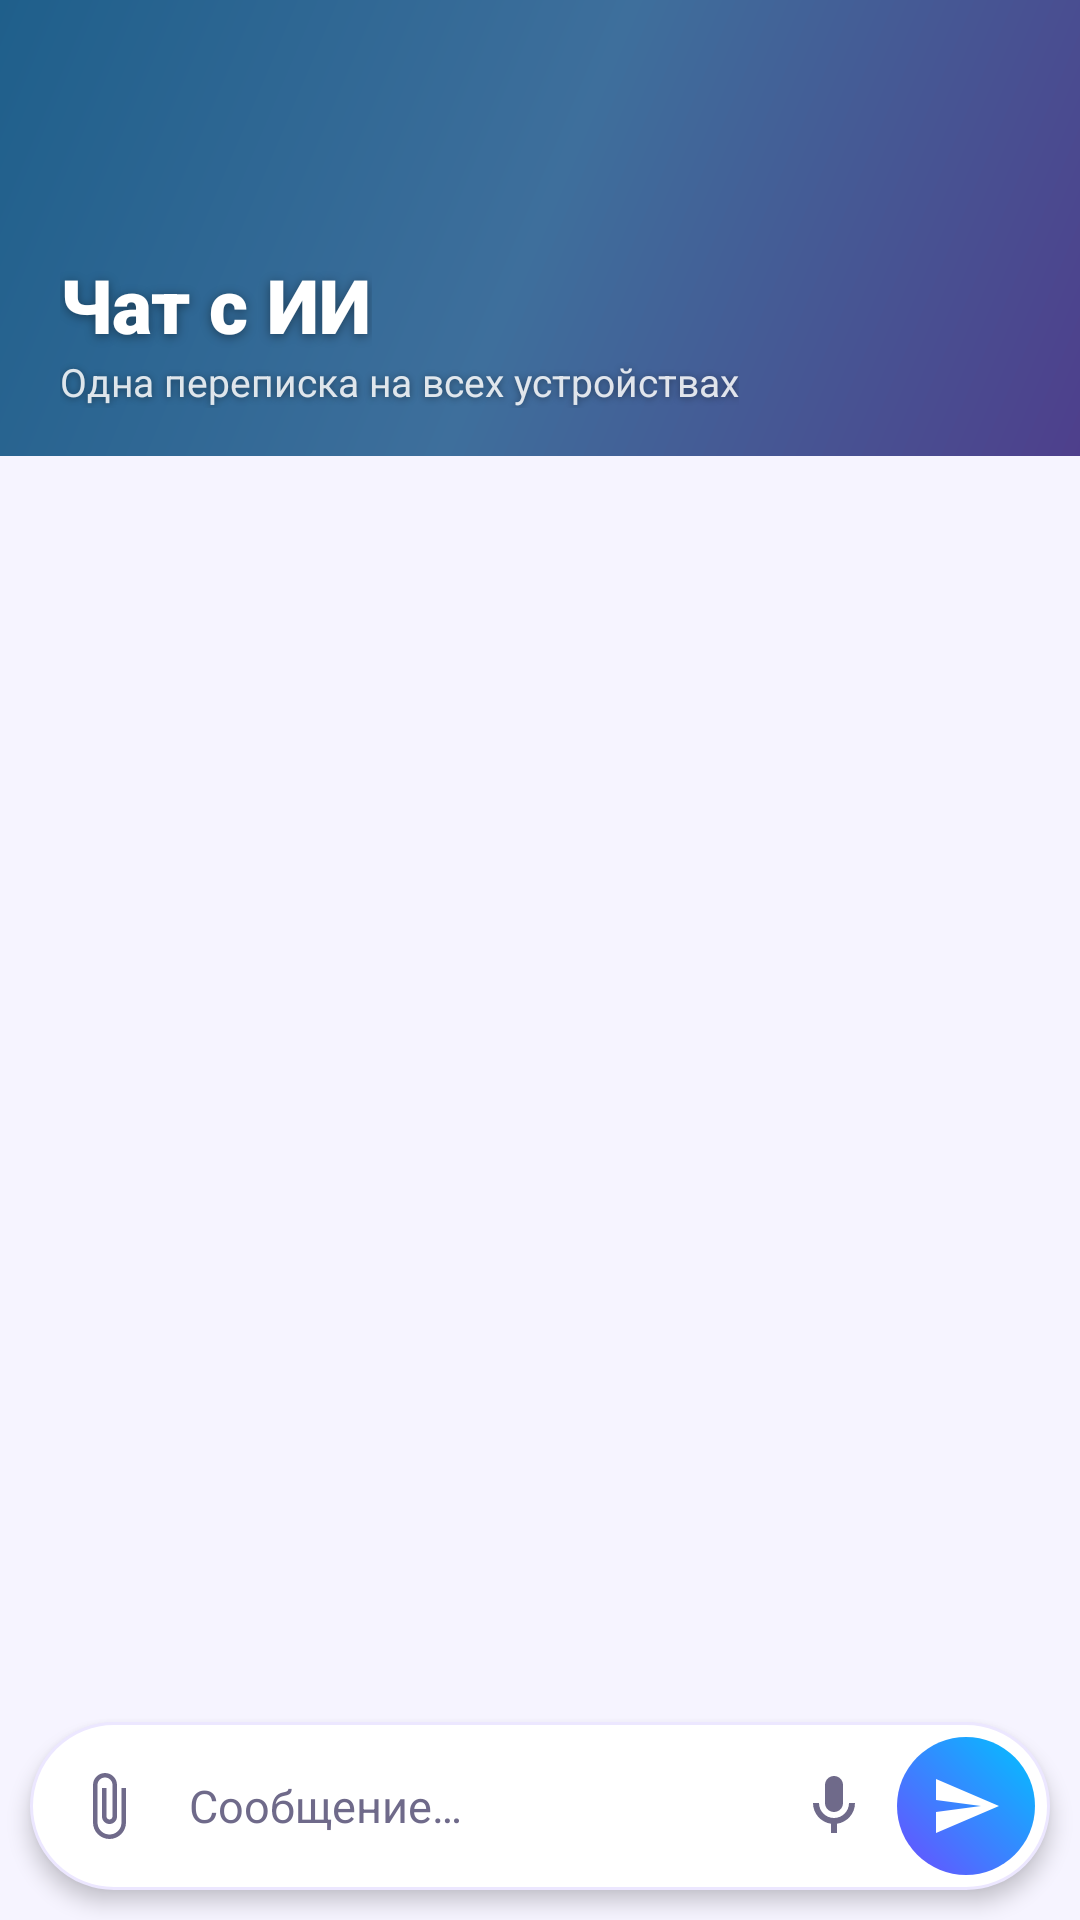

Where icons sit on this 1080 x 1920 app screen, as (x1, y1, x2, y2):
Отправить: (897, 1737, 1035, 1875)
Прикрепить файл: (53, 1748, 126, 1839)
